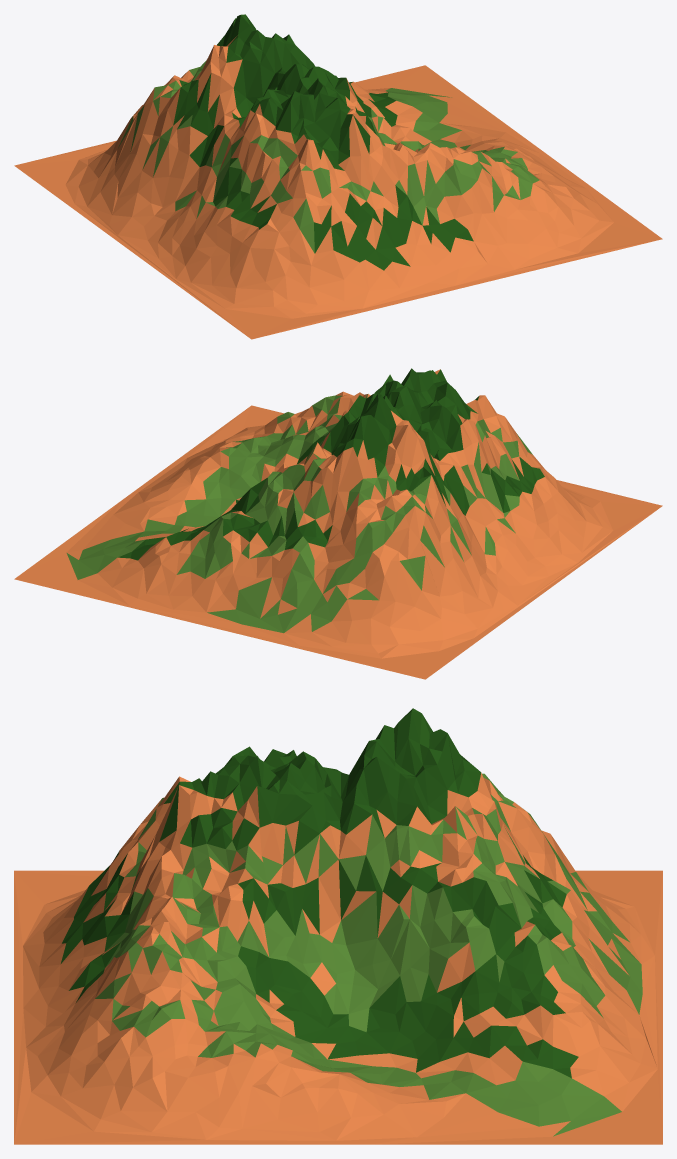
The model's file is mountain01.fbx.
3 renders of one model, top to bottom at view 1: azimuth 30°, elevation 25°; view 2: azimuth 150°, elevation 25°; view 3: azimuth 270°, elevation 25°, orthographic. The views are drawn at different scales.
Parts seen in each view (by area): view 1: mountain01; view 2: mountain01; view 3: mountain01.
Part boxes in pixels (x1,y1,x2,y2): mountain01: (14, 14, 662, 339); mountain01: (14, 368, 662, 679); mountain01: (14, 708, 662, 1144).
Size of the model in its own units: 1229 by 528 by 1229.
